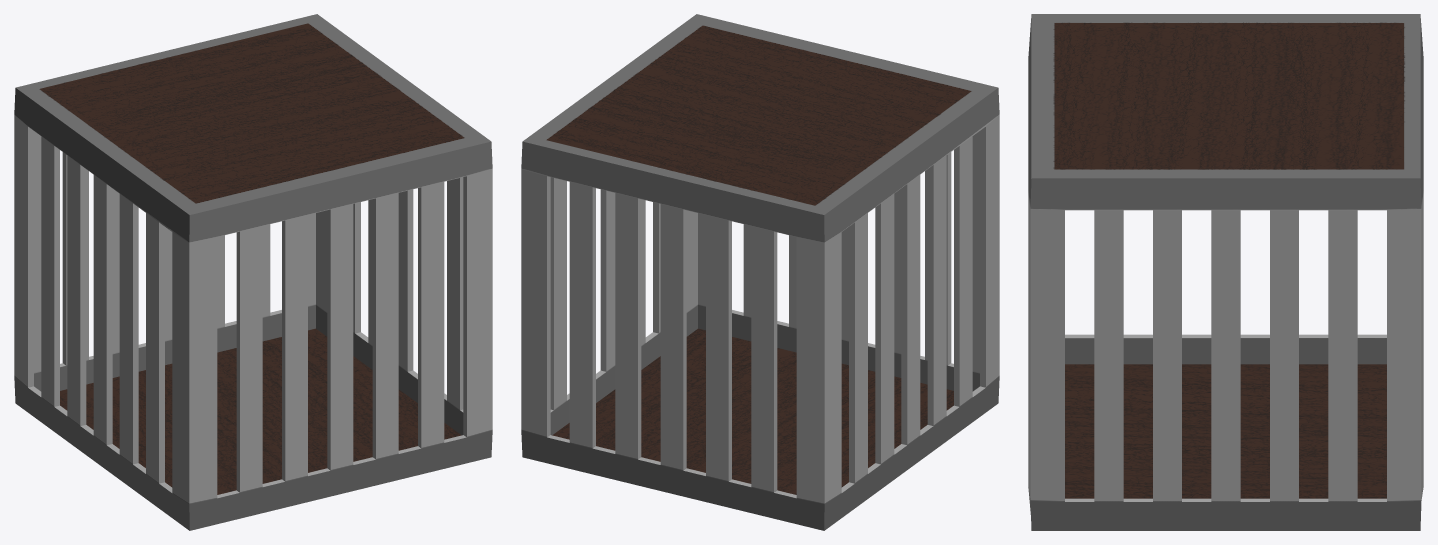
Rendered from Cage01.fbx.
3 views of the same model, side by side, from view 1: azimuth 30°, elevation 25°; view 2: azimuth 150°, elevation 25°; view 3: azimuth 270°, elevation 25° (orthographic). The views are drawn at different scales.
Visible parts, largest first — view 1: Cage01; view 2: Cage01; view 3: Cage01.
Boxes of the visible parts, box(x1,y1,x2,y2) form: Cage01: box(14, 14, 492, 530); Cage01: box(521, 14, 999, 530); Cage01: box(1028, 14, 1423, 530).
Size of the model in its own units: 2.08 by 2.05 by 2.08.
2 materials, 2 textured.
